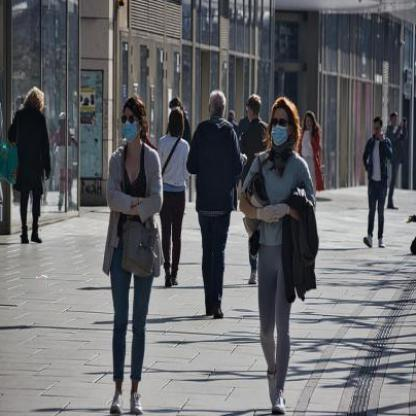person: (99, 95, 162, 415), (248, 97, 307, 415), (194, 88, 236, 320), (13, 86, 50, 249), (158, 108, 190, 288), (360, 114, 392, 249), (242, 93, 266, 153), (300, 110, 322, 172)
